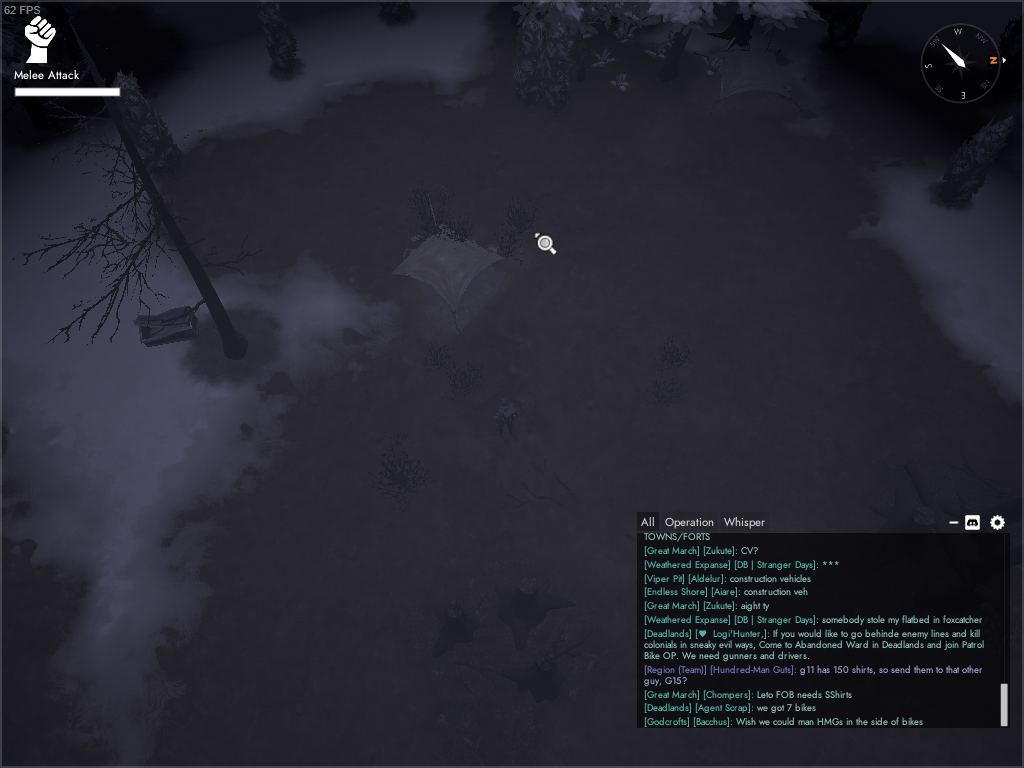foxhole: (385, 180, 526, 339), (692, 45, 803, 114)
player: (492, 396, 521, 440)
storage_box: (133, 306, 201, 349)
